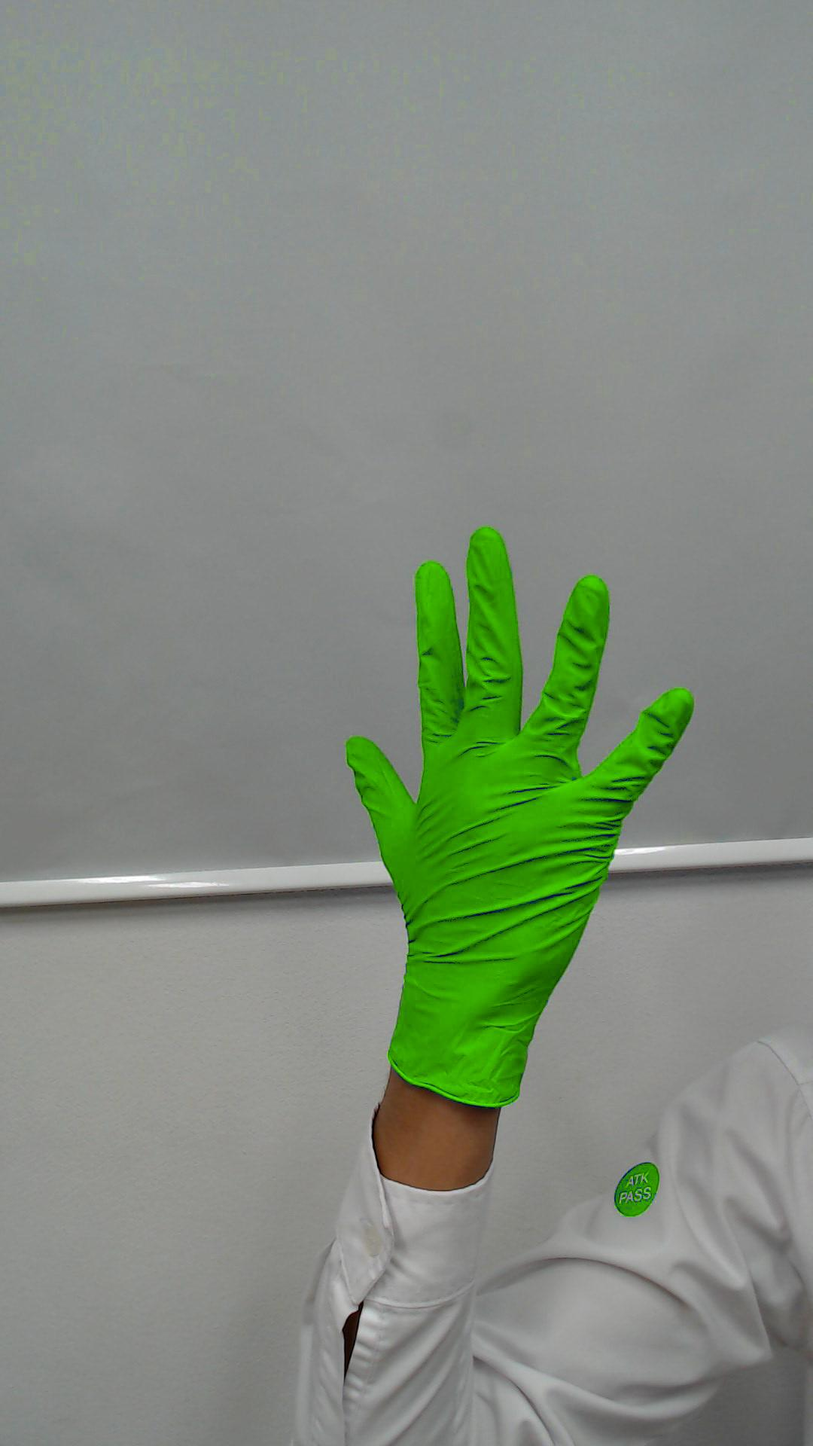gloves: (329, 505, 704, 1002)
